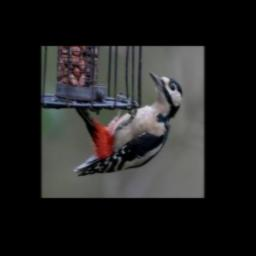Woodpecker: (74, 72, 183, 177)
